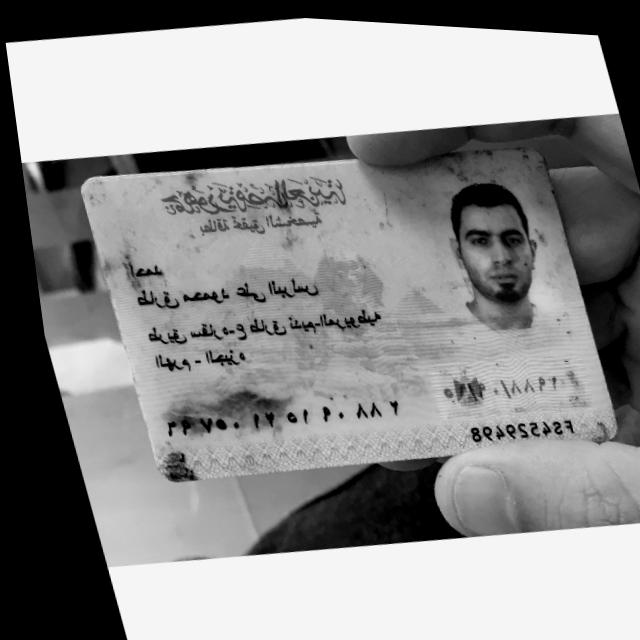front: (66, 115, 628, 506)
